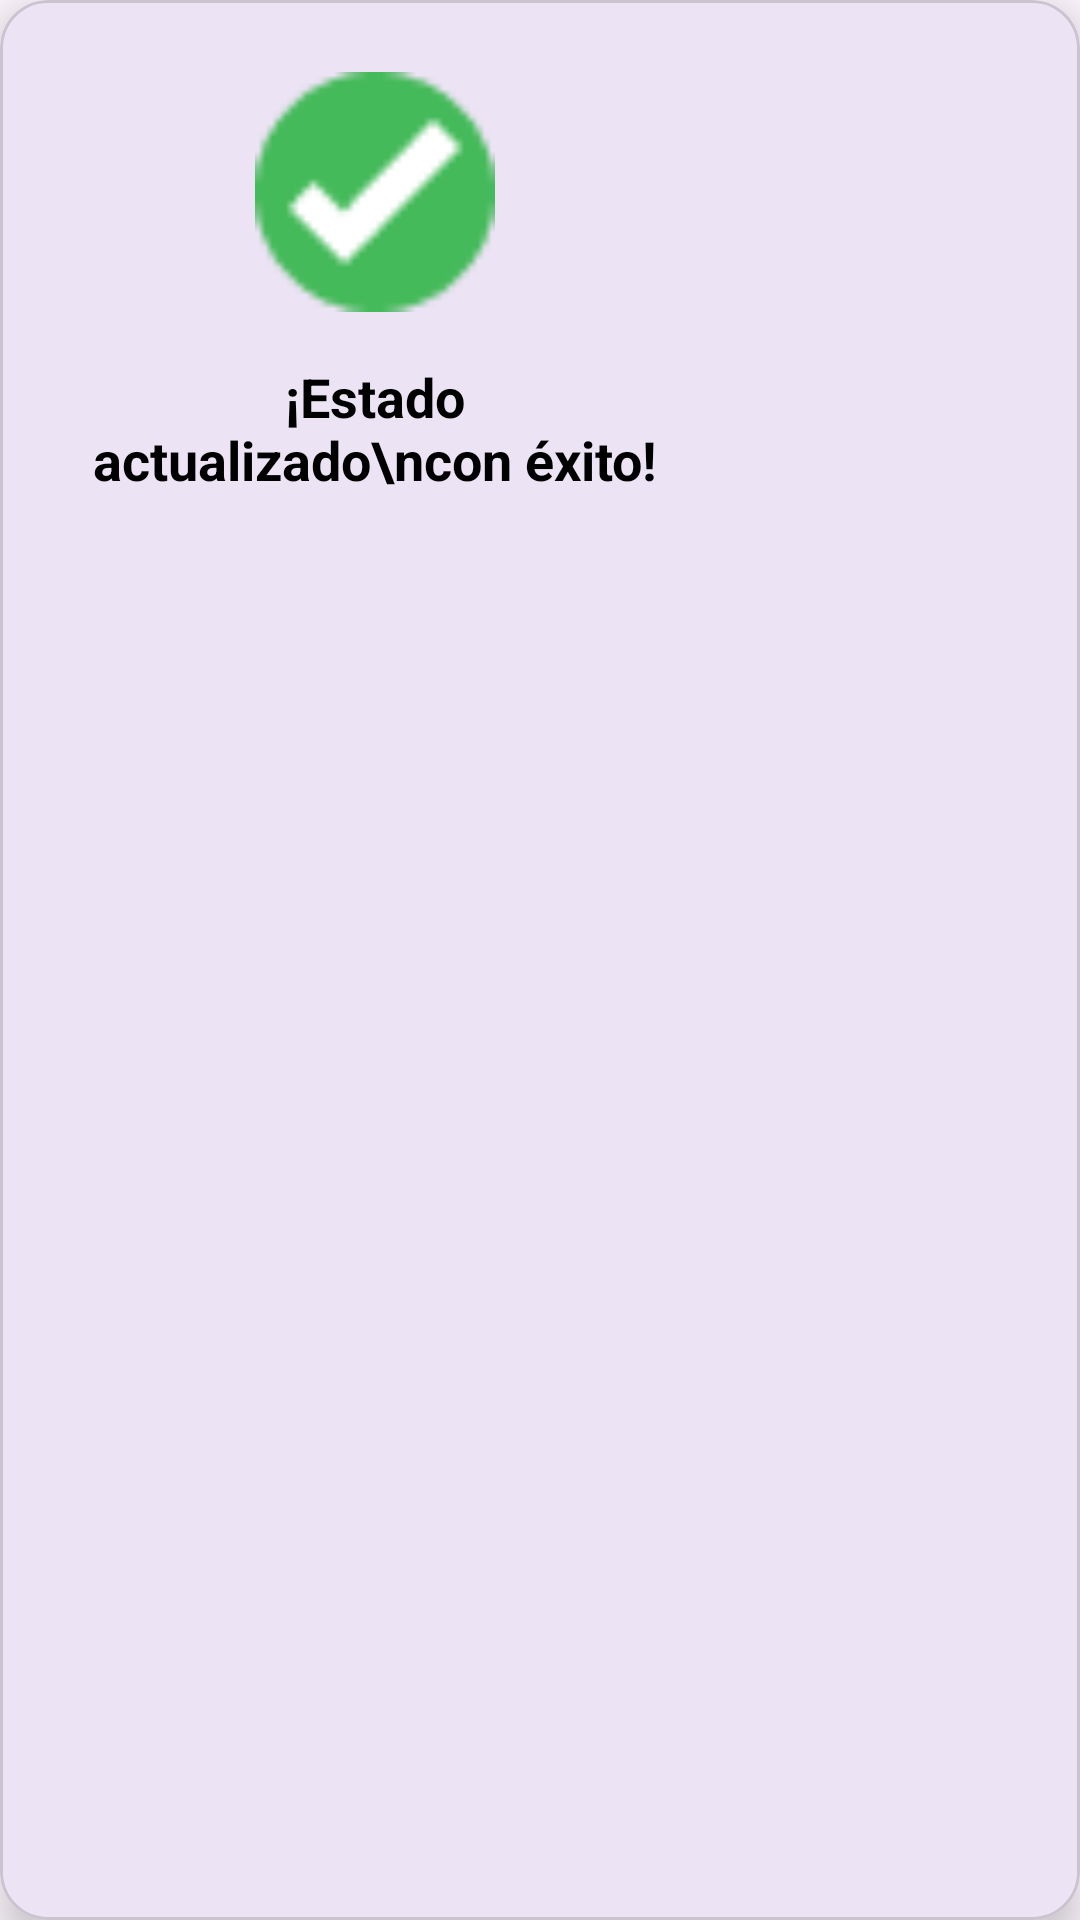

Where to tap for icons on this 1080w x 1920h app screen, as (x=x, y=y):
check circle: (x=375, y=192)
